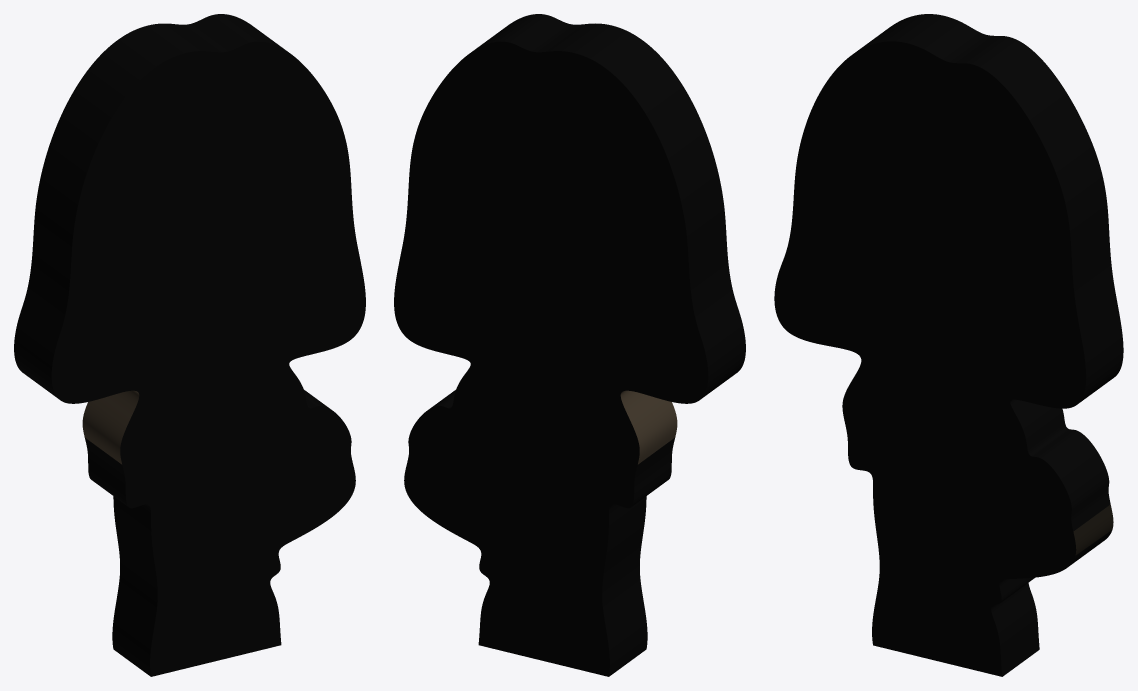
File: asset.glb
The picture shows the model from 3 angles, left to right: view 1: azimuth 30°, elevation 25°; view 2: azimuth 150°, elevation 25°; view 3: azimuth 330°, elevation 25°; orthographic projection.
Parts seen in each view (by area): view 1: Character 3; view 2: Character 3; view 3: Character 3.
Boxes of the visible parts, left/top/right/bottom form: Character 3: left=14, top=14, right=365, bottom=676; Character 3: left=394, top=14, right=745, bottom=676; Character 3: left=774, top=14, right=1123, bottom=676.
Size of the model in its own units: 0.0193 by 0.0361 by 0.004.
1 material, 1 textured.
